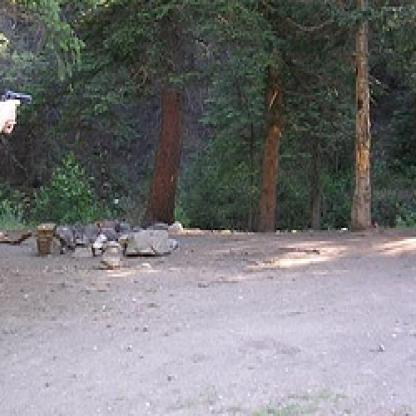gun: (0, 79, 39, 138)
